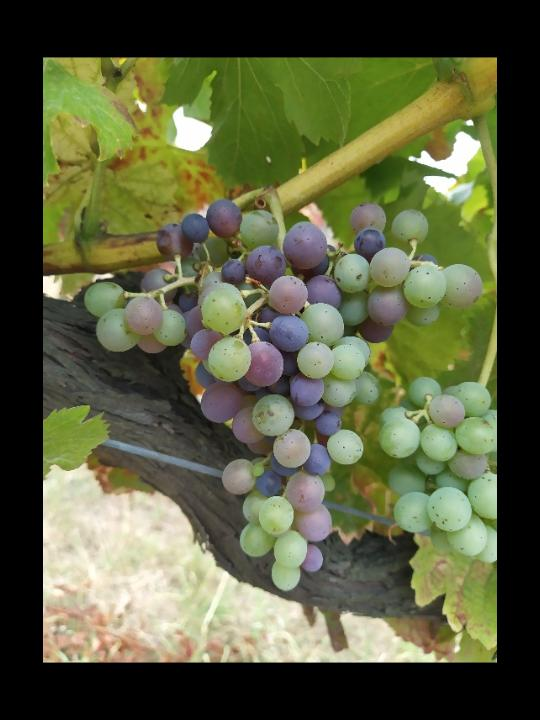grape: (80, 197, 487, 594)
